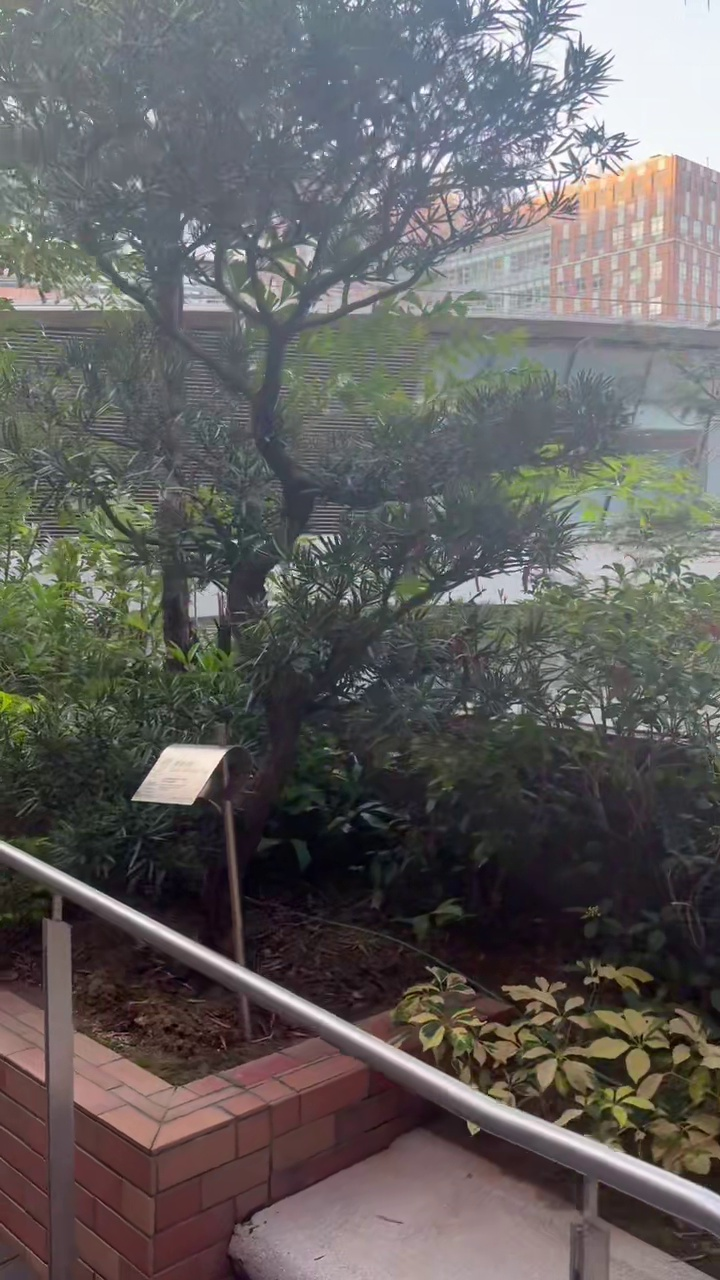Podocarpus macrophyllus: (0, 0, 624, 869)
